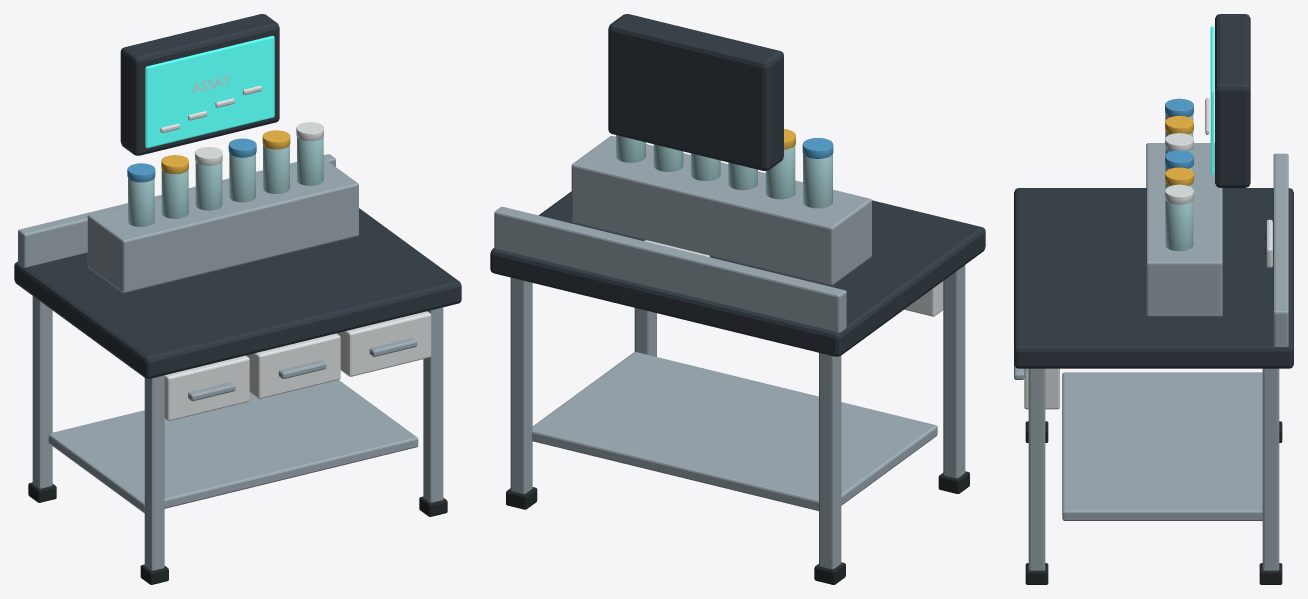
Rendered from diagnostic-bench.glb.
3 renders of one model, left to right at view 1: azimuth 30°, elevation 25°; view 2: azimuth 150°, elevation 25°; view 3: azimuth 270°, elevation 25°, orthographic. The views are drawn at different scales.
Visible parts, largest first — view 1: Worktop, Equipment shelf, Test rack, Monitor display, Diagnostic monitor, Tubular leg, Cabinet drawer.002, Cabinet drawer.001, Tubular leg.001, Cabinet drawer, Tubular leg.002, Splashback (+6 smaller); view 2: Equipment shelf, Test rack, Diagnostic monitor, Worktop, Splashback, Tubular leg.001, Tubular leg.003, Tubular leg, Reagent bottle, Reagent bottle.001, Tubular leg.002, Cabinet drawer (+4 smaller); view 3: Worktop, Equipment shelf, Test rack, Diagnostic monitor, Tubular leg.002, Tubular leg.003, Splashback, Reagent bottle.005, Cabinet drawer.002, Monitor display, Cap.005, Cap.002 (+6 smaller).
Boxes of the visible parts, <box> form: Worktop: <box>14,208,461,378</box>; Equipment shelf: <box>48,380,418,513</box>; Test rack: <box>87,158,358,293</box>; Monitor display: <box>145,36,274,148</box>; Diagnostic monitor: <box>120,14,279,155</box>; Tubular leg: <box>144,375,164,570</box>; Cabinet drawer.002: <box>337,311,431,376</box>; Cabinet drawer.001: <box>246,333,340,398</box>; Tubular leg.001: <box>32,296,52,488</box>; Cabinet drawer: <box>164,355,249,420</box>; Tubular leg.002: <box>423,307,443,502</box>; Splashback: <box>18,154,335,267</box>; Equipment shelf: <box>532,352,937,510</box>; Test rack: <box>571,136,871,285</box>; Diagnostic monitor: <box>608,14,783,170</box>; Worktop: <box>490,191,985,356</box>; Splashback: <box>494,206,846,332</box>; Tubular leg.001: <box>819,353,841,569</box>; Tubular leg.003: <box>510,277,532,493</box>; Tubular leg: <box>943,265,965,478</box>; Reagent bottle: <box>803,154,832,208</box>; Reagent bottle.001: <box>765,145,795,199</box>; Tubular leg.002: <box>634,308,656,356</box>; Cabinet drawer: <box>904,281,943,316</box>; Worktop: <box>1014,188,1293,368</box>; Equipment shelf: <box>1062,372,1262,520</box>; Test rack: <box>1146,143,1222,316</box>; Diagnostic monitor: <box>1215,14,1250,187</box>; Tubular leg.002: <box>1028,368,1045,570</box>; Tubular leg.003: <box>1262,368,1279,570</box>; Splashback: <box>1273,153,1288,346</box>; Reagent bottle.005: <box>1165,200,1193,251</box>; Cabinet drawer.002: <box>1024,368,1059,409</box>; Monitor display: <box>1210,26,1214,175</box>; Cap.005: <box>1165,184,1193,204</box>; Cap.002: <box>1165,133,1193,151</box>.
Bounding box in the file's own units: 1.5 × 2 × 1.1.
